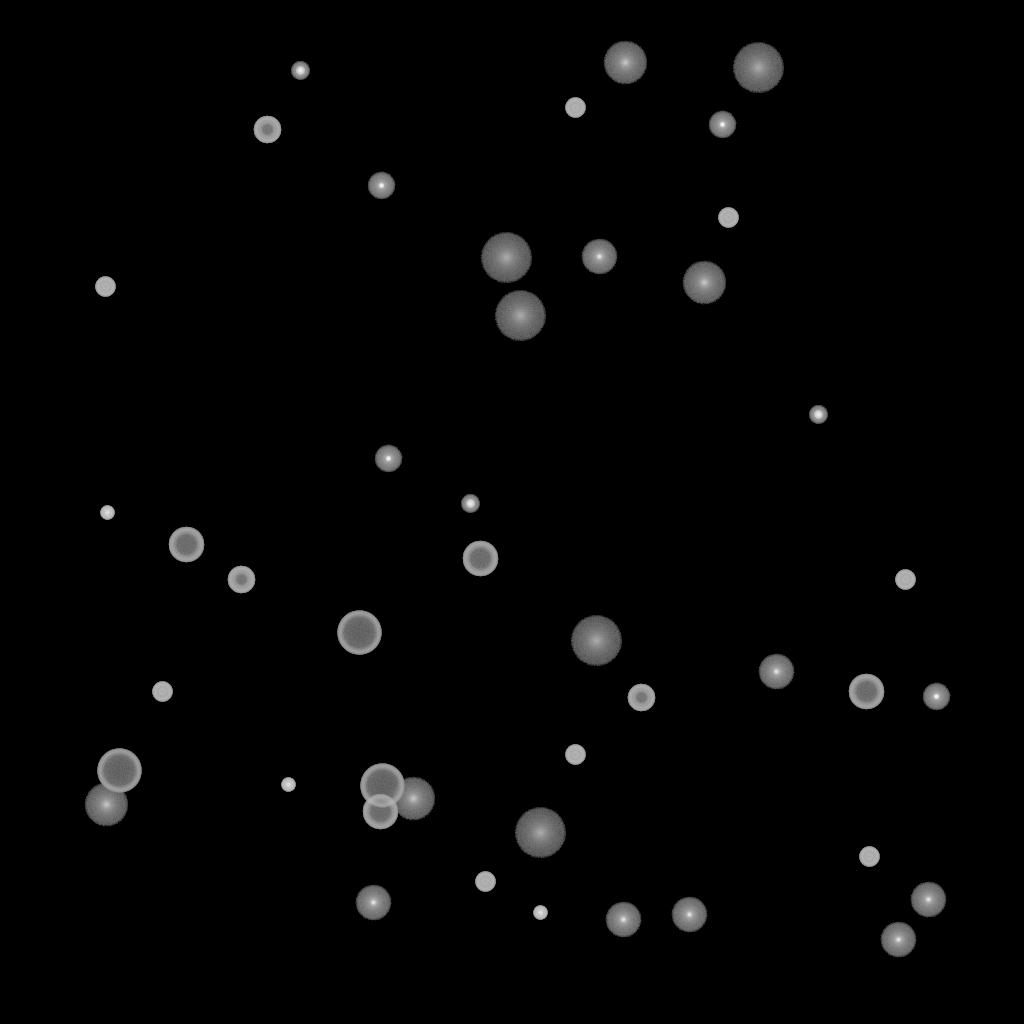depth:-10: (922, 683, 950, 711), (367, 172, 395, 200), (708, 111, 736, 139), (374, 445, 402, 473)
depth:-20: (809, 406, 827, 424), (291, 62, 309, 80), (461, 495, 479, 513)
depth:-30: (281, 778, 295, 792), (100, 506, 114, 520), (533, 906, 547, 920)
depth:-40: (152, 682, 172, 702), (475, 872, 495, 892), (718, 208, 738, 228), (895, 570, 915, 590), (565, 98, 585, 118), (95, 277, 115, 297), (859, 847, 879, 867), (565, 745, 585, 765)
depth:-50: (627, 684, 655, 712), (227, 566, 255, 594), (253, 116, 281, 144)
depth:-60: (168, 527, 204, 563), (848, 674, 884, 710), (362, 794, 398, 830), (462, 541, 498, 577)
depth:-70: (337, 611, 381, 655), (97, 749, 141, 793), (360, 764, 404, 808)
depth:0: (605, 902, 641, 938), (880, 922, 916, 958), (758, 654, 794, 690), (581, 239, 617, 275), (910, 882, 946, 918), (355, 885, 391, 921), (671, 897, 707, 933)
depth:10: (84, 783, 128, 827), (682, 261, 726, 305), (603, 41, 647, 85), (391, 777, 435, 821)
depth:20: (480, 233, 532, 283), (732, 43, 784, 93), (514, 808, 566, 858), (570, 616, 622, 666), (494, 291, 546, 341)
